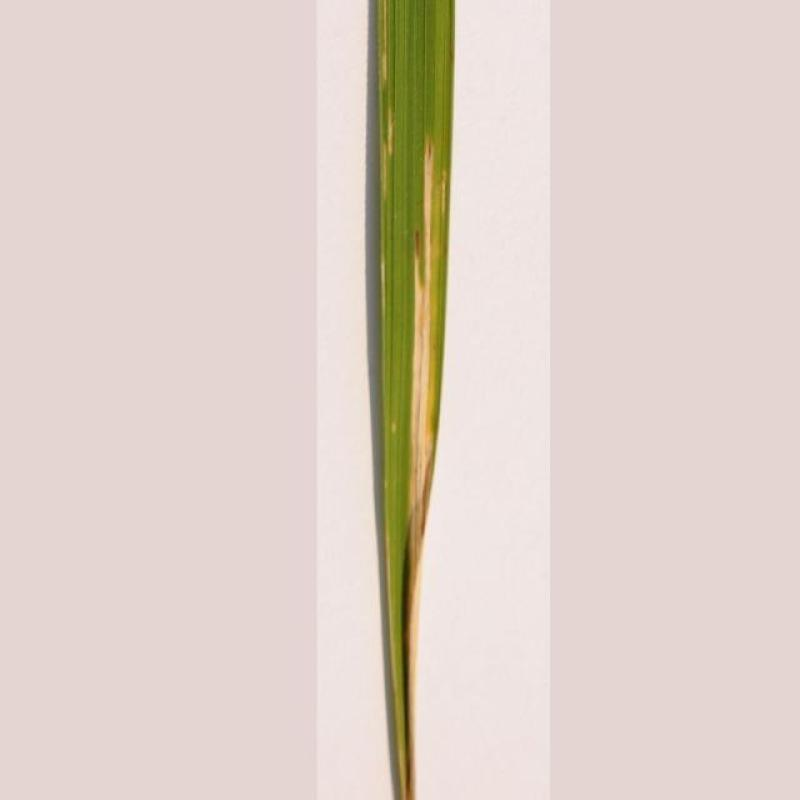Bacterial_Leaf_Blight: (342, 12, 466, 798)
